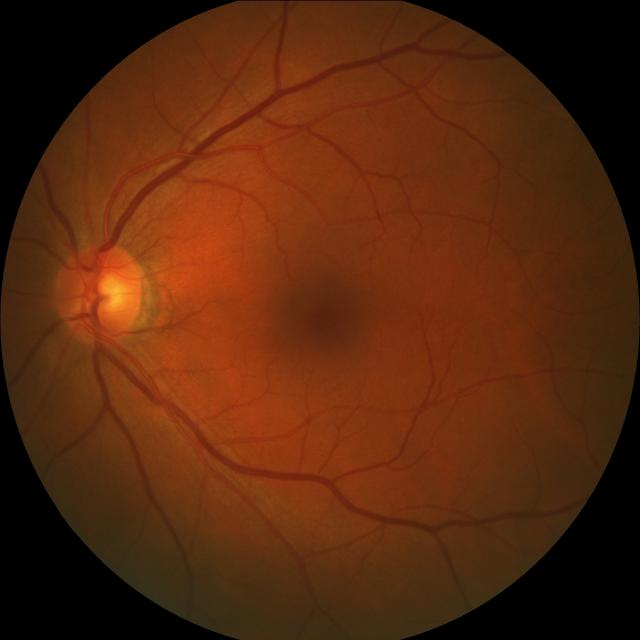OC: (85, 270, 129, 316)
OD: (53, 240, 148, 343)
